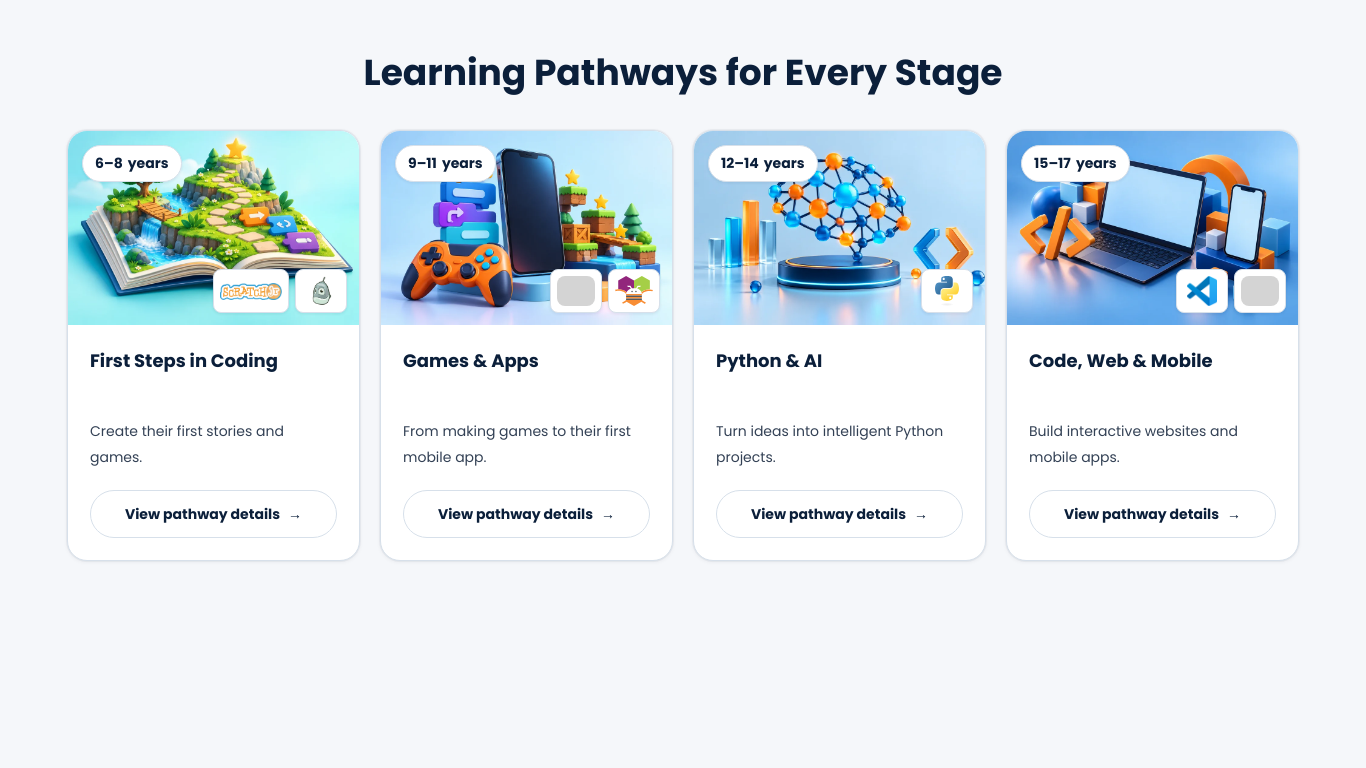
Test case: homepage pathway cards › opens useful details without navigation and restores body scrolling on close
Click the button with aria-label "View pathway details: First Steps into Coding" at (214, 514), box [90,490,337,538]
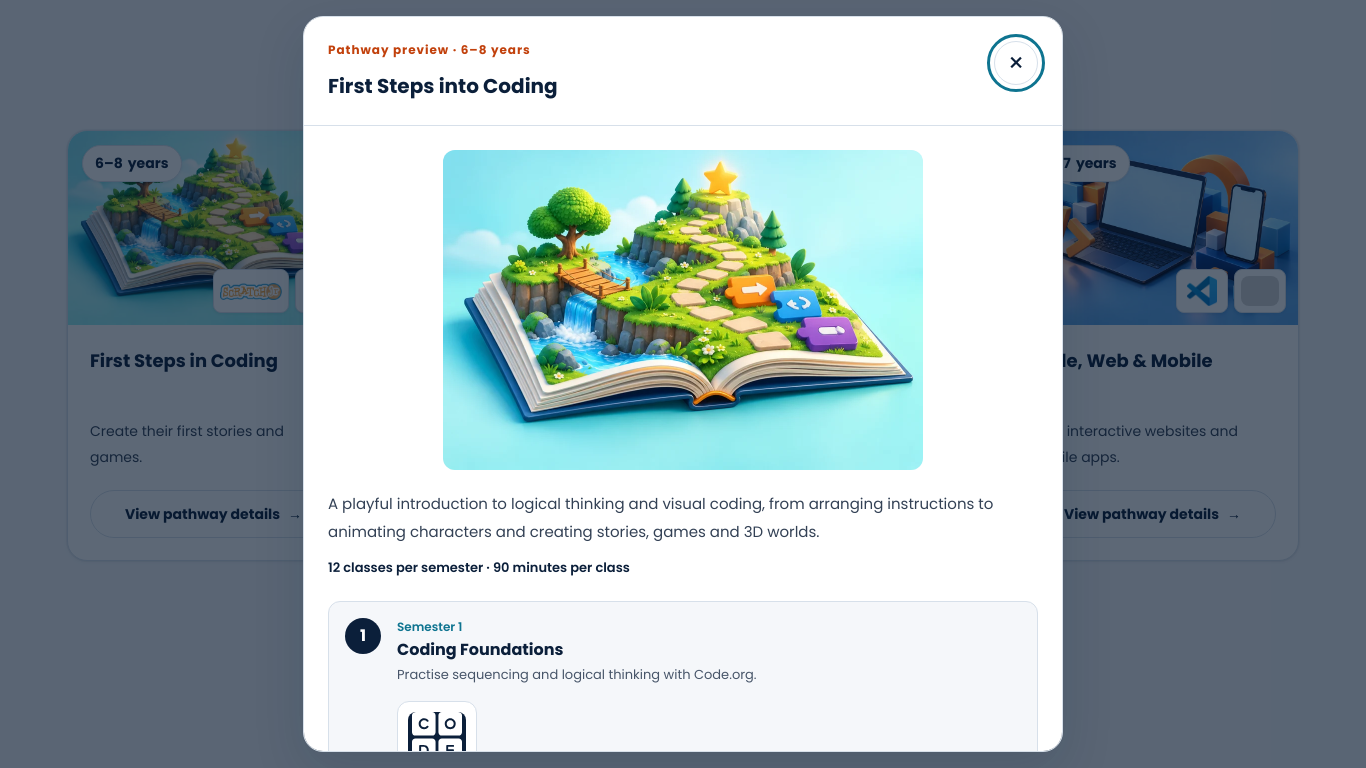
Click the button named "Close details" at (1016, 63), box [994,41,1038,85]
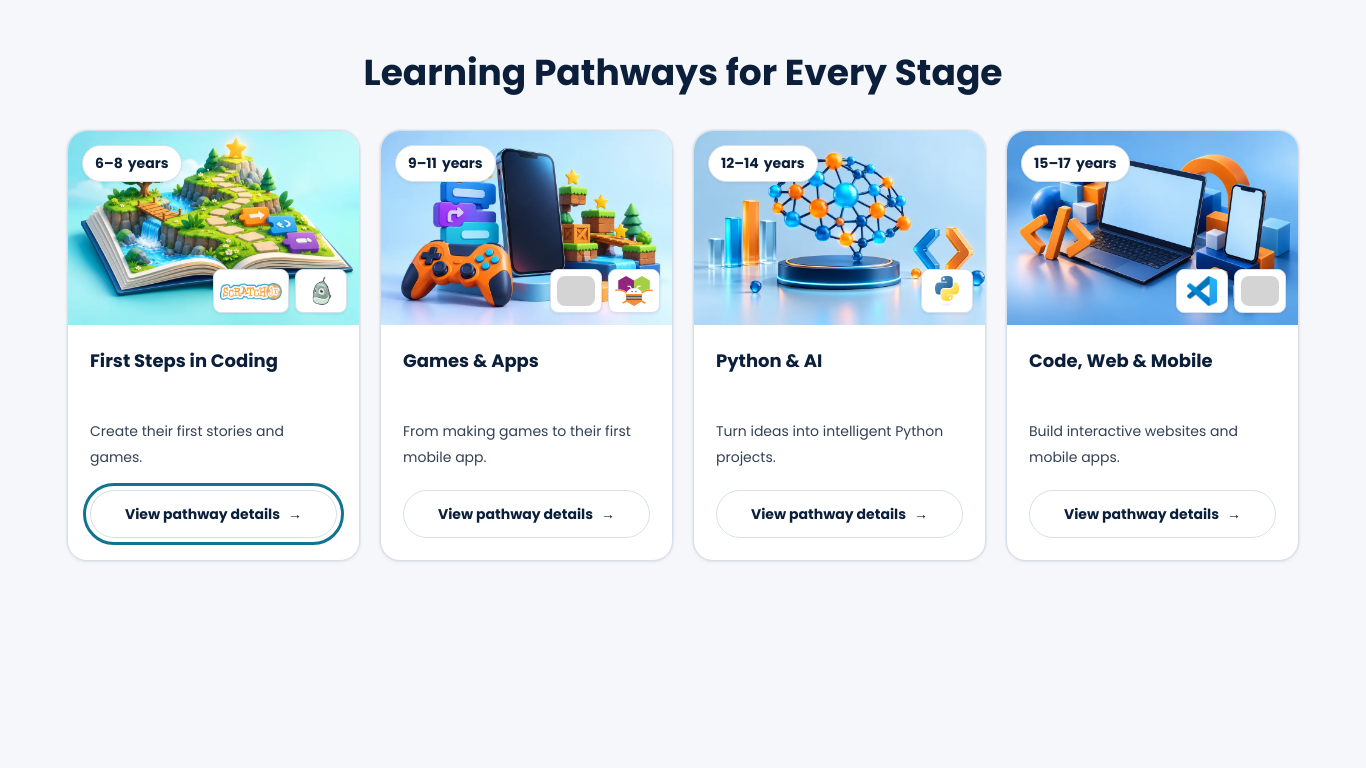
Check: the dialog is gone
